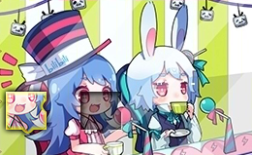gap: (80, 92, 122, 135)
